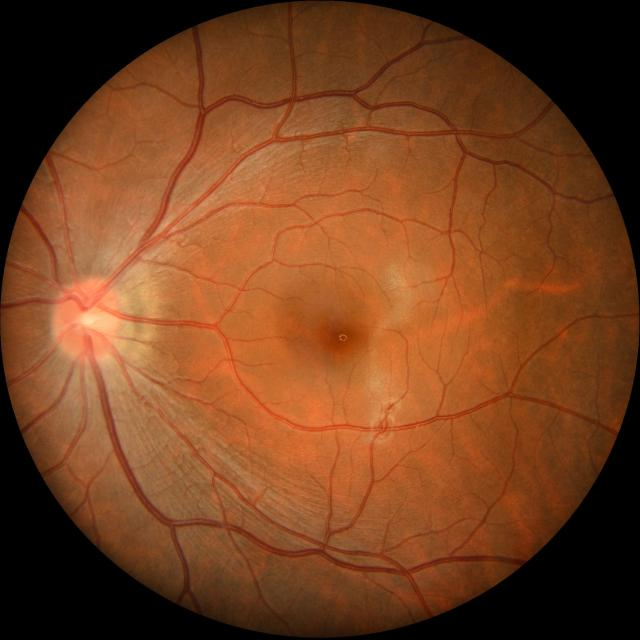OC: (78, 308, 105, 330)
OD: (53, 280, 120, 362)
